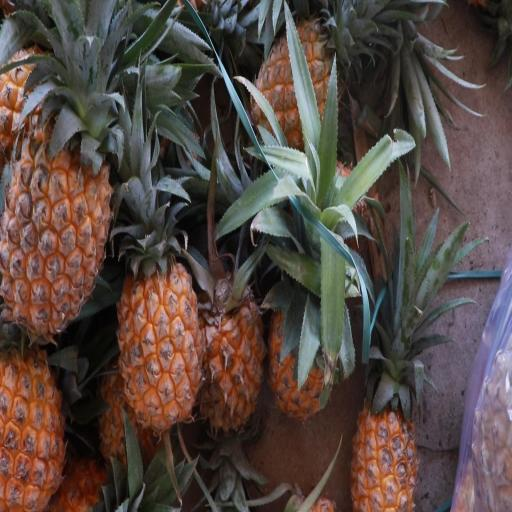Pineapple - v8 v1: (2, 95, 116, 352), (249, 11, 357, 184), (115, 255, 205, 438), (198, 256, 270, 441), (270, 257, 344, 433), (0, 350, 77, 512), (348, 374, 422, 512)
